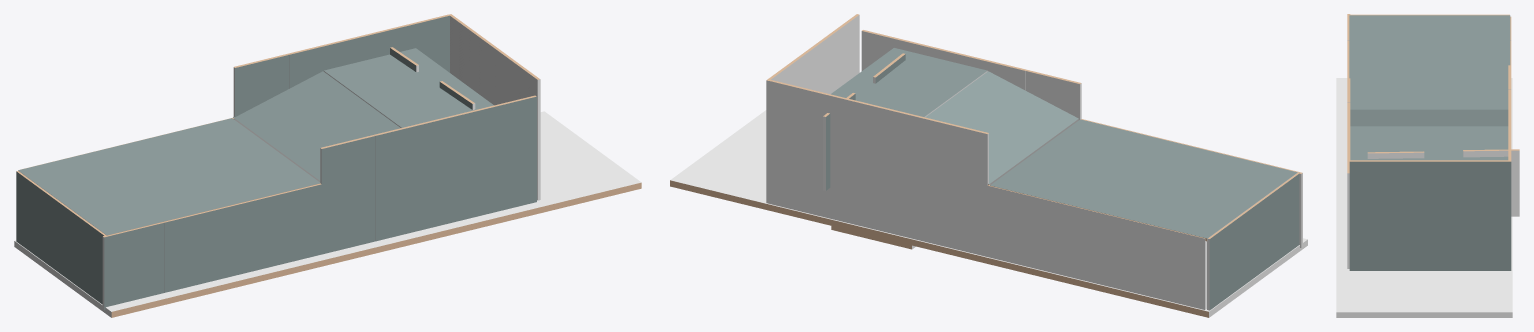
3 views of the same model, side by side, from view 1: azimuth 30°, elevation 25°; view 2: azimuth 150°, elevation 25°; view 3: azimuth 270°, elevation 25° (orthographic). The views are drawn at different scales.
Parts seen in each view (by area): view 1: wall14, wall, wall15, wall16, wall21, pasted__wall5 (×2), pasted__wall4 (×2), pasted__wall3 (×2), wall23, wall7, wall5, wall6 (+8 smaller); view 2: wall14, wall, wall10 (×2), wall8 (×2), wall9 (×2), wall15, wall21, wall16, wall23, wall12, wall11, pasted__wall11 (+8 smaller); view 3: wall23, wall14, wall, wall16, wall15, wall19, wall20, wall21, wall22, pasted__wall3.
Part boxes in pixels (bbox=[...]): wall14: bbox=[18, 118, 320, 235]; wall: bbox=[14, 111, 641, 317]; wall15: bbox=[233, 71, 400, 182]; wall16: bbox=[323, 48, 493, 127]; wall21: bbox=[16, 171, 105, 304]; pasted__wall5 (×2): bbox=[163, 121, 429, 292]; pasted__wall4 (×2): bbox=[217, 108, 483, 279]; pasted__wall3 (×2): bbox=[270, 95, 536, 266]; wall23: bbox=[449, 14, 540, 200]; wall7: bbox=[102, 222, 163, 310]; wall5: bbox=[375, 158, 429, 241]; wall6: bbox=[321, 171, 375, 254]; wall14: bbox=[990, 119, 1297, 241]; wall: bbox=[670, 110, 1307, 317]; wall10 (×2): bbox=[878, 160, 1149, 296]; wall8 (×2): bbox=[769, 132, 1041, 269]; wall9 (×2): bbox=[823, 147, 1095, 283]; wall15: bbox=[925, 71, 1078, 185]; wall21: bbox=[1207, 173, 1299, 310]; wall16: bbox=[831, 48, 987, 117]; wall23: bbox=[766, 14, 859, 203]; wall12: bbox=[1150, 225, 1206, 309]; wall11: bbox=[932, 174, 987, 256]; pasted__wall11: bbox=[932, 119, 988, 186]; wall23: bbox=[1349, 160, 1511, 270]; wall14: bbox=[1349, 15, 1510, 109]; wall: bbox=[1336, 78, 1512, 317]; wall16: bbox=[1350, 126, 1508, 160]; wall15: bbox=[1350, 109, 1508, 126]; wall19: bbox=[1463, 149, 1519, 216]; wall20: bbox=[1367, 151, 1424, 158]; wall21: bbox=[1350, 14, 1509, 15]; wall22: bbox=[1347, 205, 1349, 268]; pasted__wall3: bbox=[1347, 149, 1350, 205].
Size of the model in its own units: 73.62 by 17.55 by 24.3.
